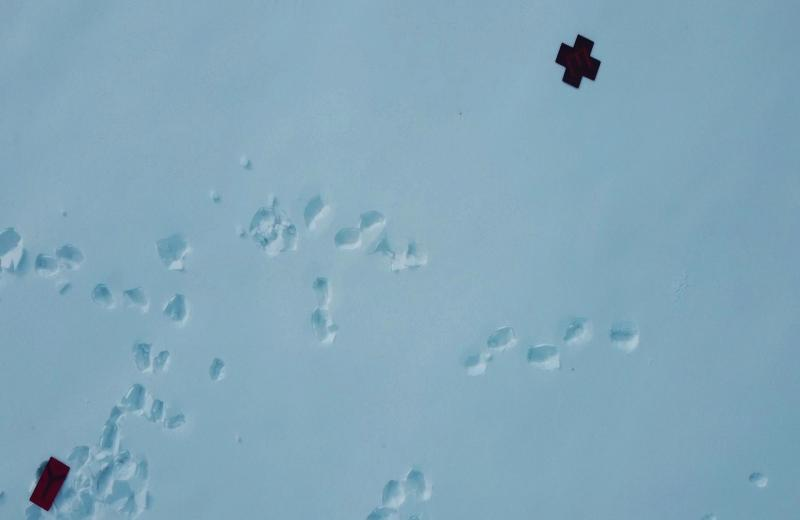Cross: (555, 34, 602, 90)
Rectangle: (30, 454, 69, 512)
